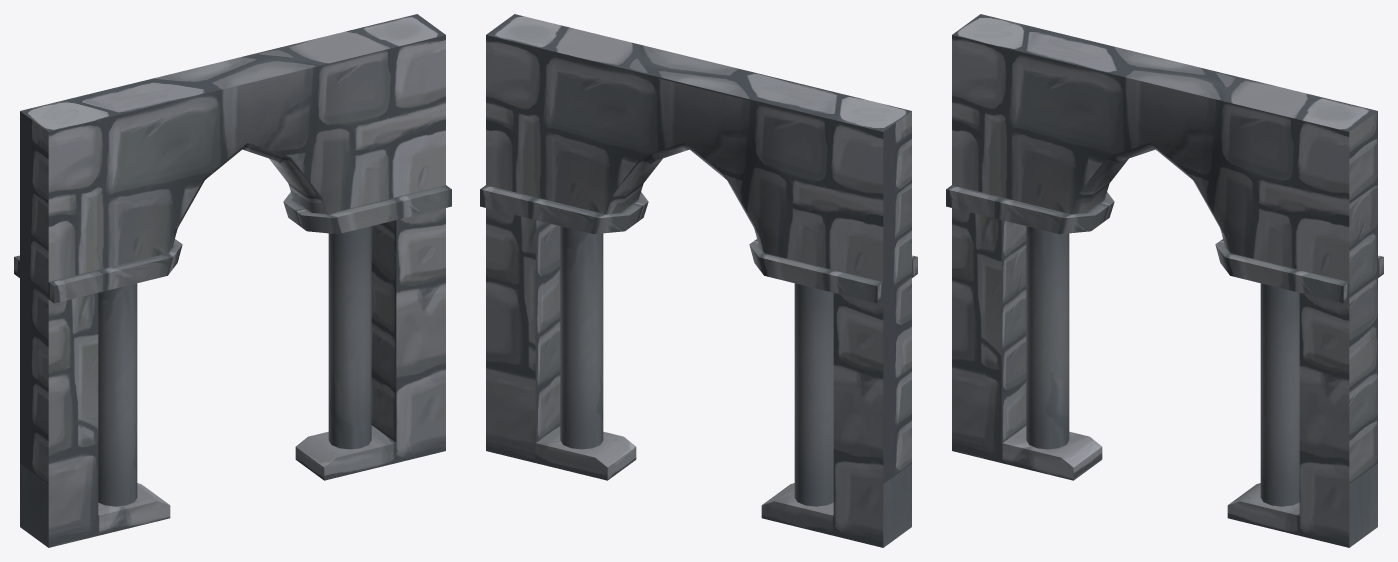
File: ArchwayTall.001.fbx
3 views of the same model, side by side, from view 1: azimuth 30°, elevation 25°; view 2: azimuth 150°, elevation 25°; view 3: azimuth 330°, elevation 25° (orthographic).
Visible parts, largest first — view 1: ArchwayTall.001; view 2: ArchwayTall.001; view 3: ArchwayTall.001.
Part boxes in pixels (x1,y1,x2,y2): ArchwayTall.001: (14, 14, 451, 547); ArchwayTall.001: (480, 14, 917, 547); ArchwayTall.001: (946, 14, 1383, 547).
Bounding box in the file's own units: 400 × 400 × 70.
